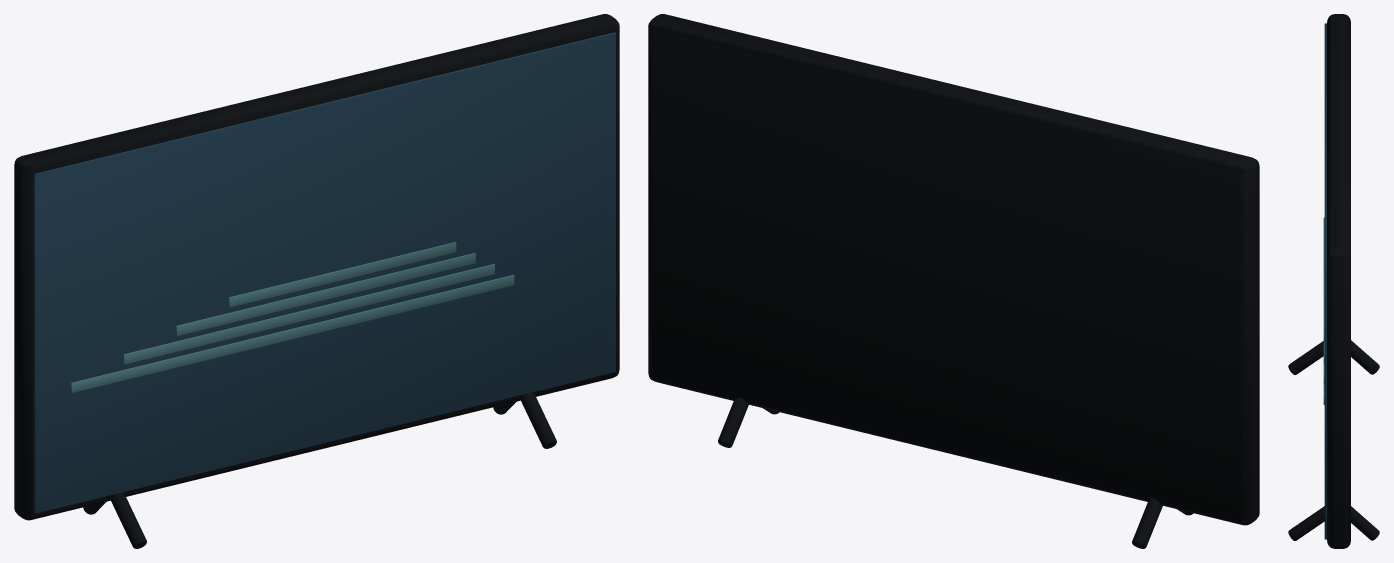
Rendered from urban-tabletop-tv-v1.glb.
3 renders of one model, left to right at view 1: azimuth 30°, elevation 25°; view 2: azimuth 150°, elevation 25°; view 3: azimuth 270°, elevation 25°, orthographic. The views are drawn at different scales.
Parts seen in each view (by area): view 1: Display, Television, Quiet horizon, Quiet horizon.001, Quiet horizon.002, Quiet horizon.003, TV stand, TV stand.002; view 2: Television, TV stand.003, TV stand.001; view 3: Television, Display, TV stand.002, TV stand, TV stand.001, TV stand.003, Quiet horizon.003.
Boxes of the visible parts, left/top/right/bottom form: Display: left=34, top=32, right=615, bottom=513; Television: left=14, top=14, right=619, bottom=520; Quiet horizon: left=71, top=274, right=514, bottom=393; Quiet horizon.001: left=123, top=264, right=494, bottom=364; Quiet horizon.002: left=176, top=253, right=475, bottom=335; Quiet horizon.003: left=229, top=242, right=456, bottom=307; TV stand: left=111, top=492, right=146, bottom=548; TV stand.002: left=521, top=392, right=556, bottom=448; Television: left=648, top=14, right=1259, bottom=525; TV stand.003: left=718, top=397, right=748, bottom=447; TV stand.001: left=1132, top=498, right=1162, bottom=548; Television: left=1327, top=14, right=1350, bottom=548; Display: left=1324, top=23, right=1326, bottom=539; TV stand.002: left=1288, top=506, right=1324, bottom=540; TV stand: left=1288, top=341, right=1323, bottom=374; TV stand.001: left=1351, top=340, right=1379, bottom=374; TV stand.003: left=1351, top=506, right=1379, bottom=540; Quiet horizon.003: left=1323, top=242, right=1324, bottom=342.
Size of the model in its own units: 1.08 by 0.6759 by 0.1722.
Materials: 3 (3 with a texture image).
